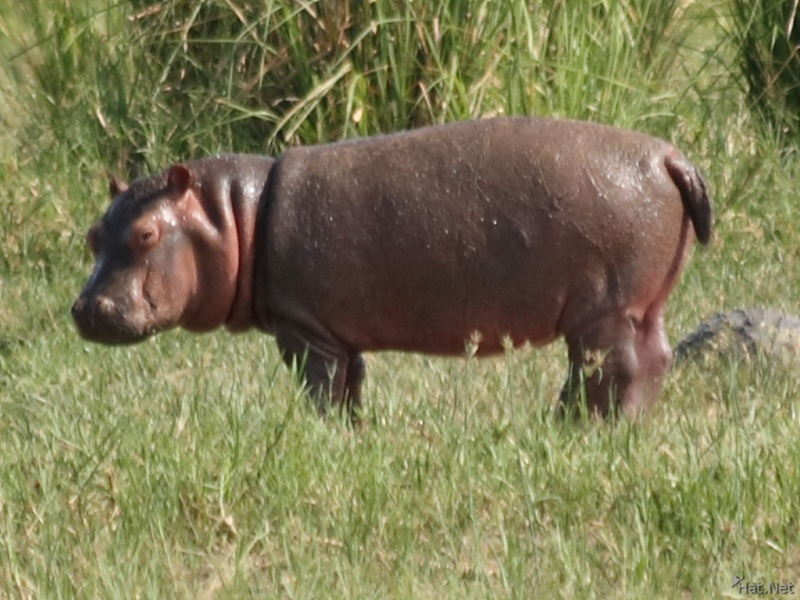hipopotamo: (70, 112, 715, 444)
